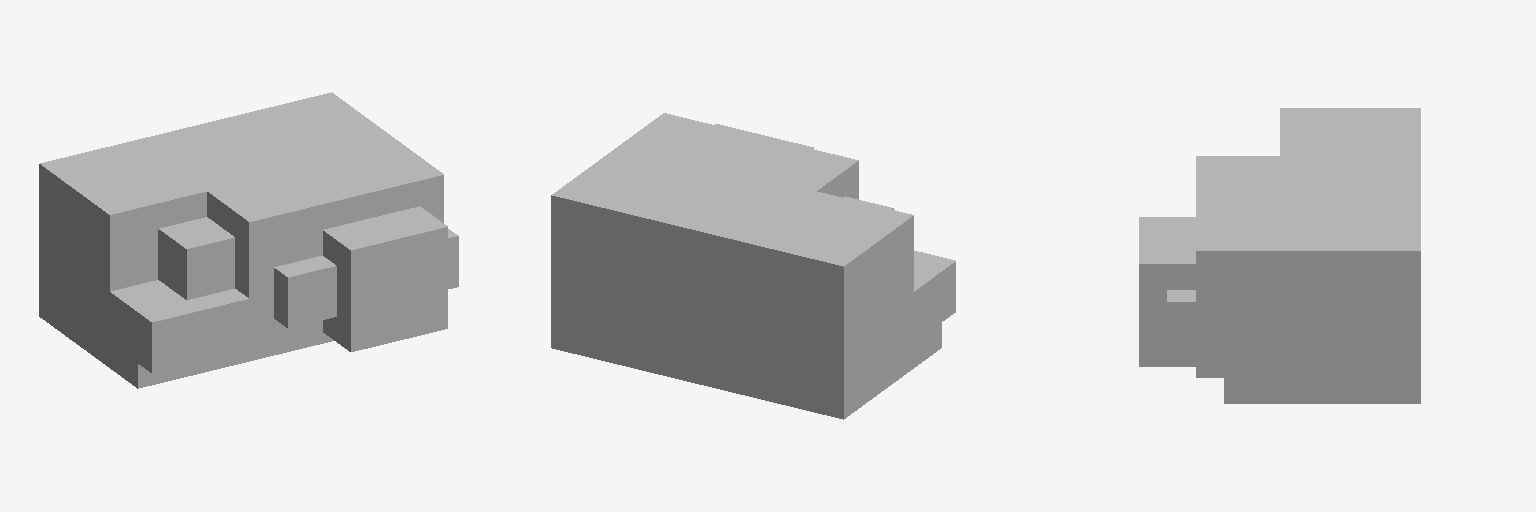
The model's file is cliff2 12x12.obj.
The picture shows the model from 3 angles: view 1: azimuth 30°, elevation 25°; view 2: azimuth 150°, elevation 25°; view 3: azimuth 270°, elevation 25°; orthographic projection.
Size of the model in its own units: 12 by 6 by 10.